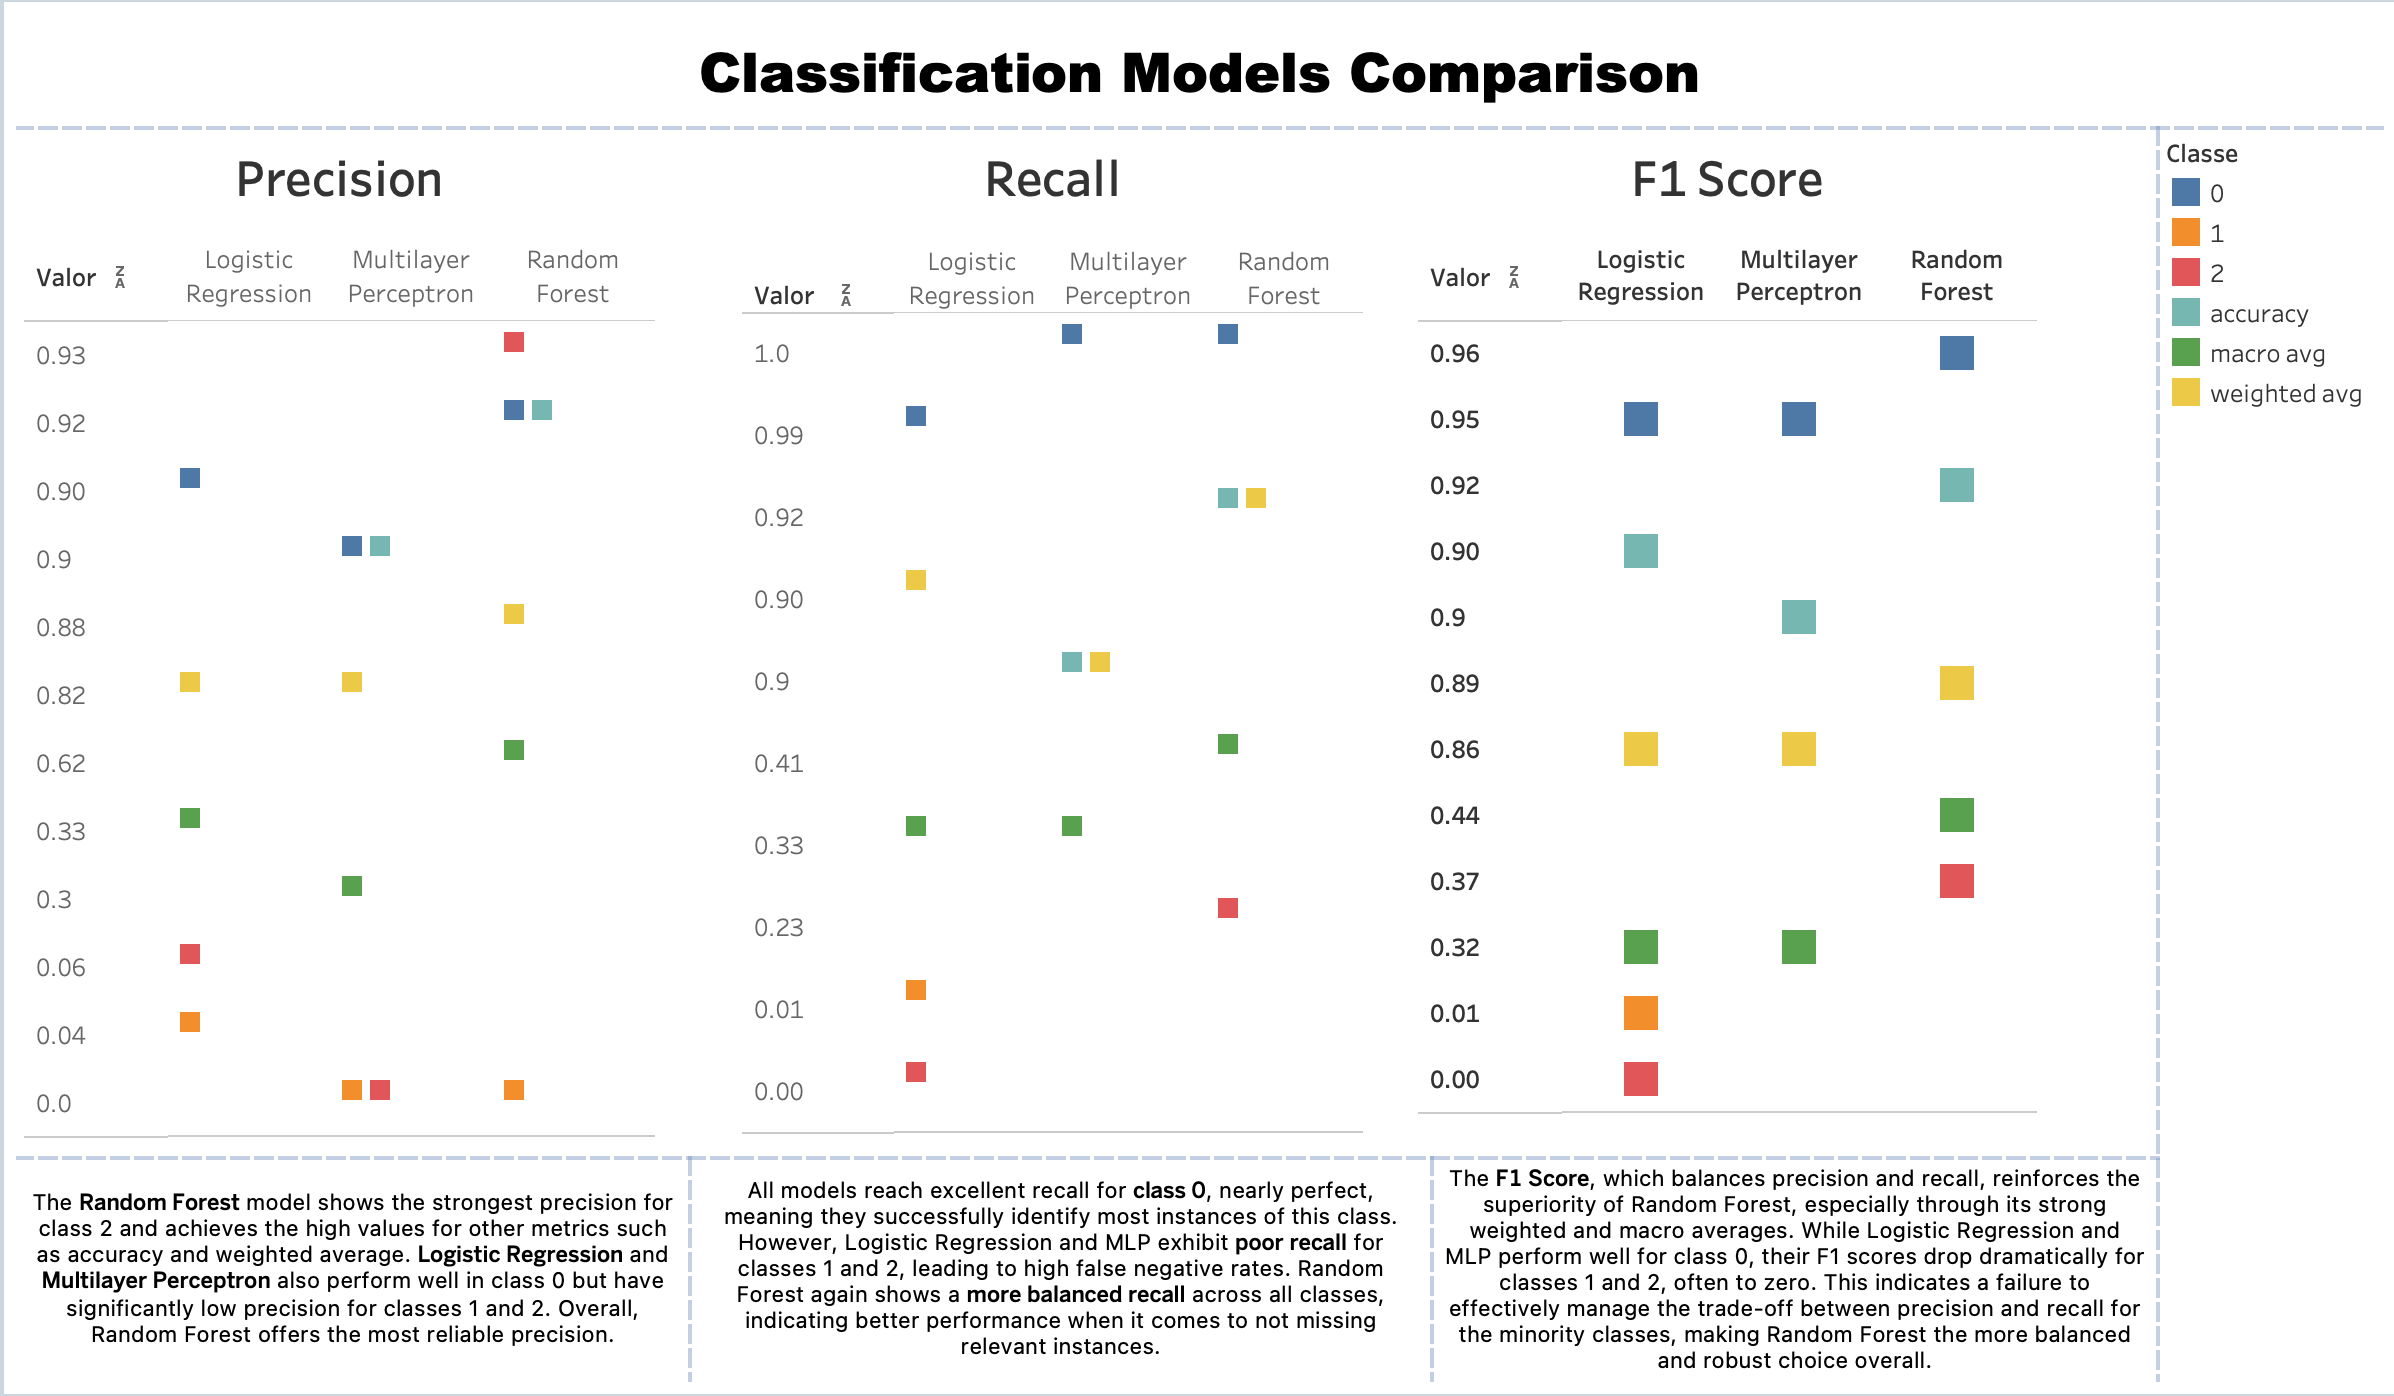

The dashboard page shown, as its layout file describes it:
{"tool":"tableau","page":{"name":"Dashboard 2","canvas":[1200,700],"ordinal":1},"visuals":[{"type":"text","box":[8,8,1184,57]},{"type":"worksheet","title":"precisao","mark":"Automatic","rows":["Valor"],"cols":["Modelo"],"box":[8,65,359,509]},{"type":"worksheet","title":"recall","mark":"Automatic","rows":["Valor"],"cols":["Modelo"],"box":[367,65,338,515]},{"type":"worksheet","title":"f1","mark":"Automatic","rows":["Valor"],"cols":["Modelo"],"box":[705,65,374,497]},{"type":"legend","title":"precisao","param":"[federated.02bibno11wn3yx151w29d05rikmt].[none:Classe:nk]","box":[1079,65,113,627]},{"type":"text","box":[8,580,337,112]},{"type":"text","box":[345,580,371,112]},{"type":"text","box":[716,580,363,112]}]}

Visuals, with their boxes in screenshot pixels (x1, y1, x2, y2), scaled from the page's 1200x700 canvas onto the 2394x1396 screenshot:
text: bbox=(16, 16, 2378, 130)
"precisao" worksheet: bbox=(16, 130, 732, 1145)
"recall" worksheet: bbox=(732, 130, 1406, 1157)
"f1" worksheet: bbox=(1406, 130, 2153, 1121)
"precisao" legend: bbox=(2153, 130, 2378, 1380)
text: bbox=(16, 1157, 688, 1380)
text: bbox=(688, 1157, 1428, 1380)
text: bbox=(1428, 1157, 2153, 1380)
